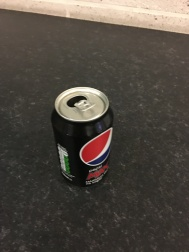can_black: (33, 83, 126, 194)
